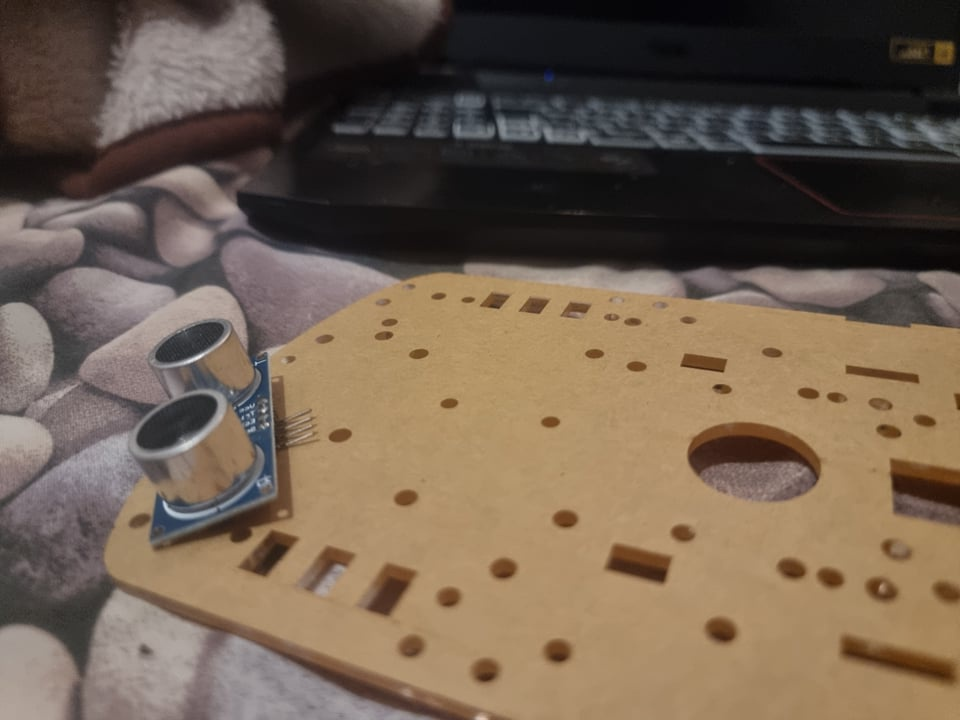SENSOR: (129, 315, 274, 546)
